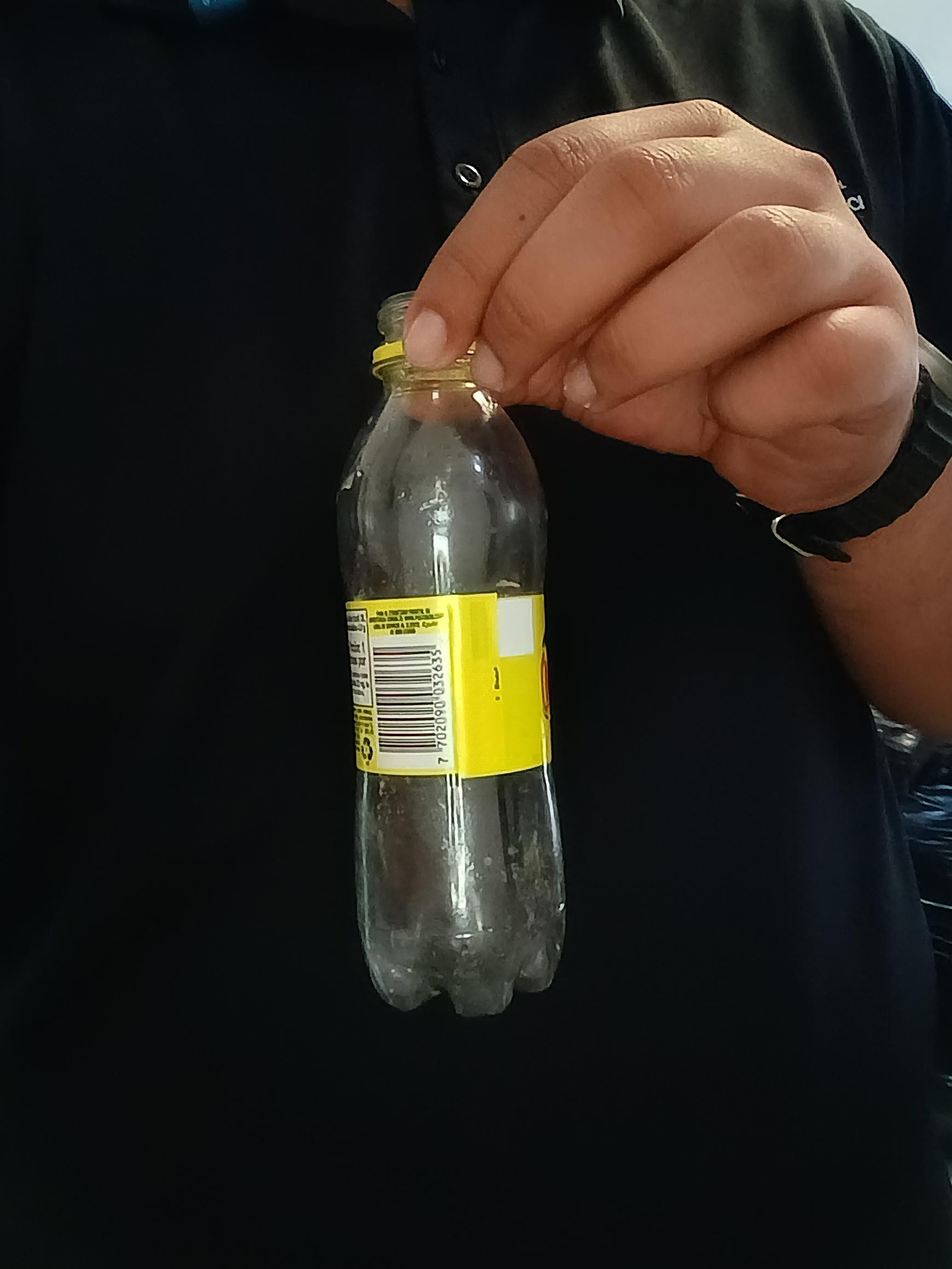Plastico: (338, 290, 565, 1012)
